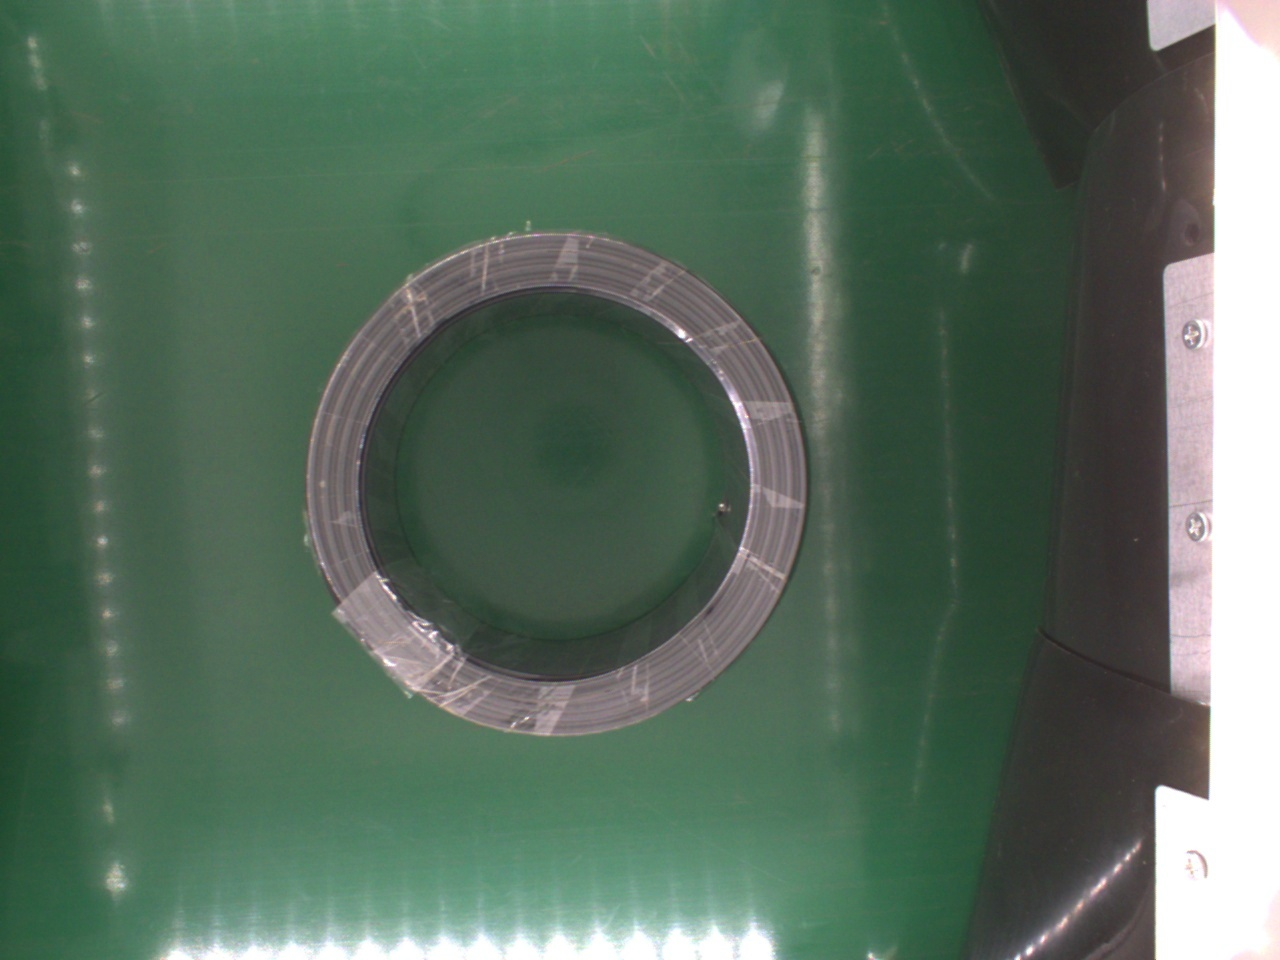black: (303, 229, 810, 738)
